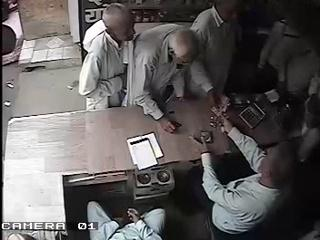Normal: (193, 106, 299, 240), (128, 23, 200, 133), (188, 0, 243, 106), (87, 200, 166, 240)
shoplifting: (78, 2, 136, 110)
